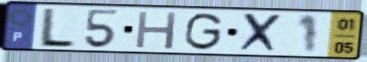1: (294, 13, 319, 56)
5: (82, 7, 120, 50)
G: (182, 11, 226, 52)
H: (134, 10, 181, 51)
L: (35, 6, 79, 50)
X: (235, 11, 285, 55)
